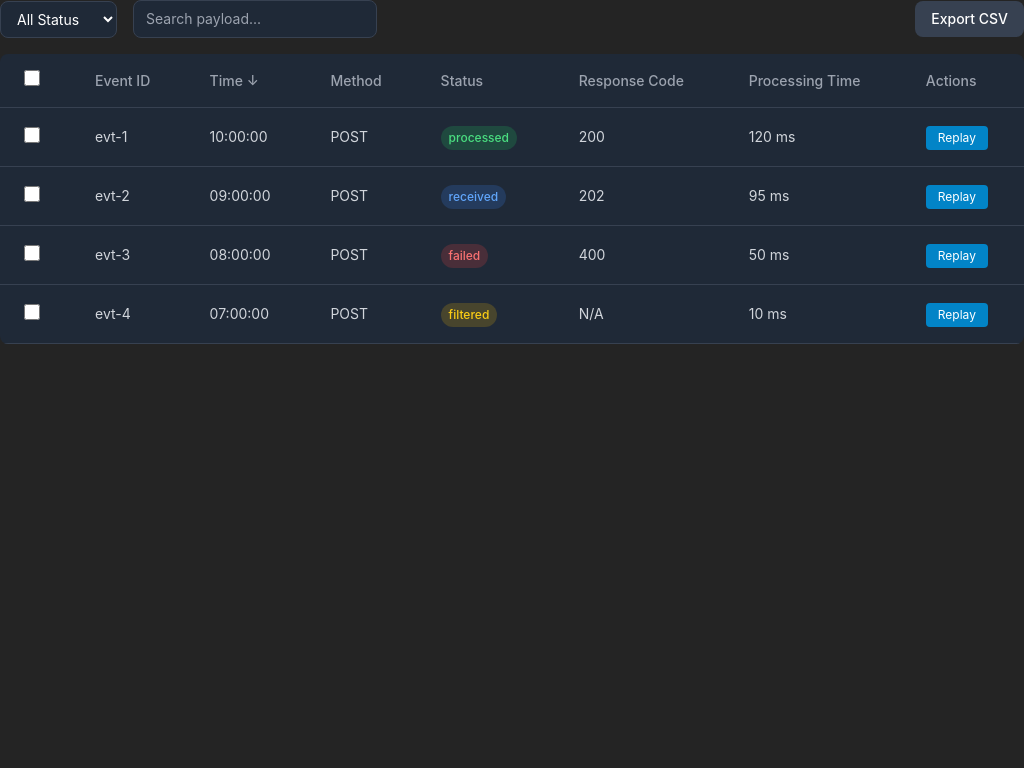
Test case: WebhookEventHistory › Event Detail Modal › should display error message in modal if event failed
Click the text "evt-3".
click(128, 255)  # box [71,226,186,284]
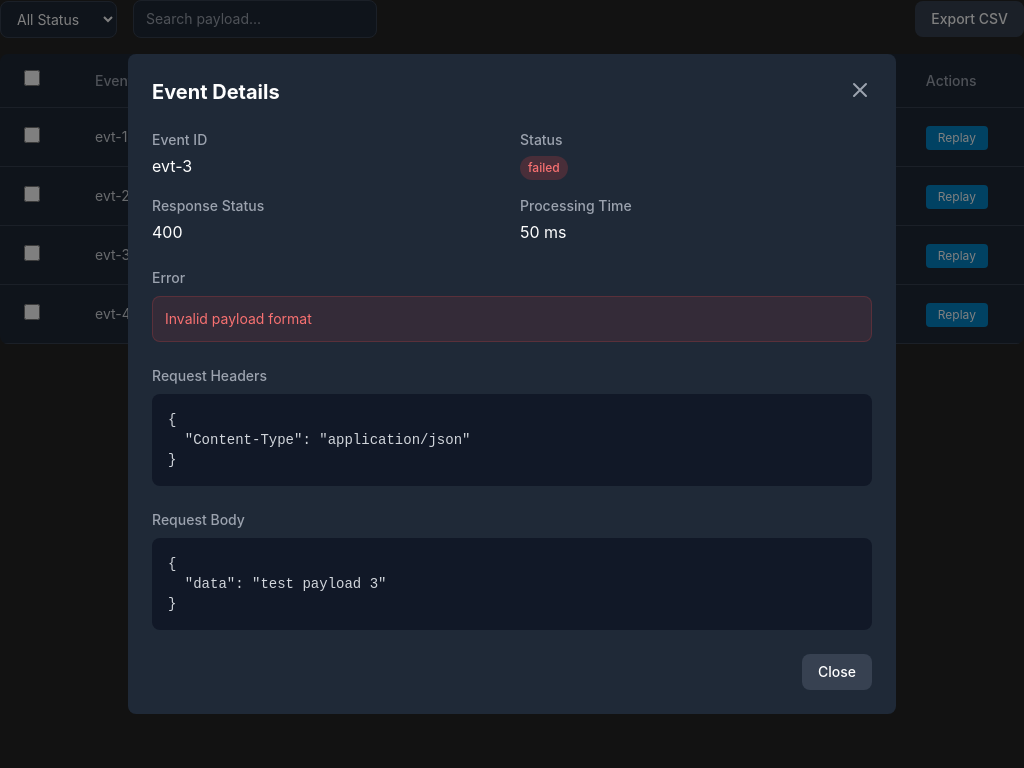
Expected: the heading "Error" is shown, [152,269,185,286]
Expected: the text "Invalid payload format" is shown, [165,310,312,327]
